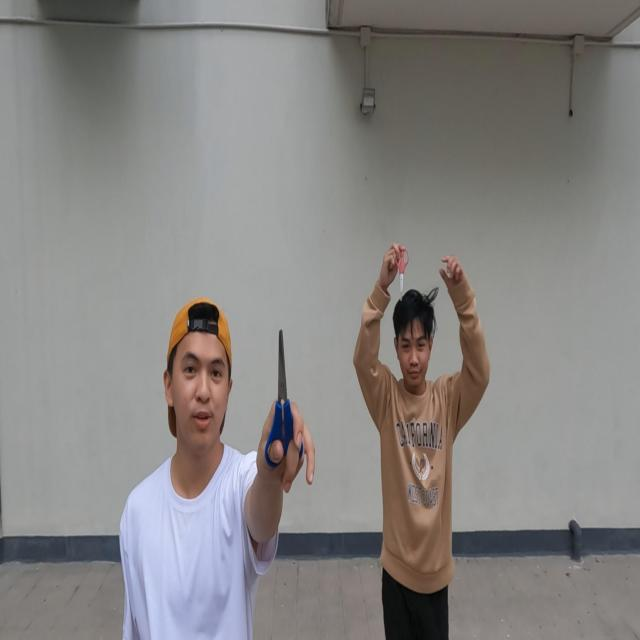scissor: (264, 327, 303, 468), (394, 248, 409, 302)
